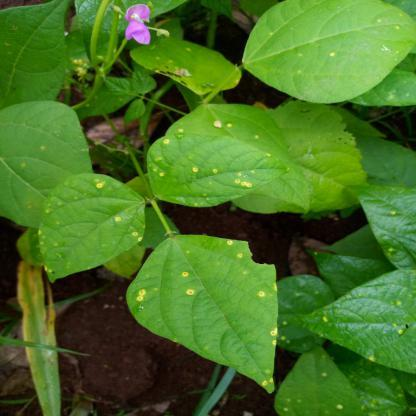Beans_Rust: (125, 238, 285, 386), (244, 0, 416, 105), (0, 98, 97, 226), (37, 175, 140, 287), (300, 274, 416, 371), (145, 134, 286, 206), (168, 101, 294, 172), (127, 33, 242, 95), (322, 356, 416, 416), (354, 187, 416, 274), (273, 352, 360, 412)
